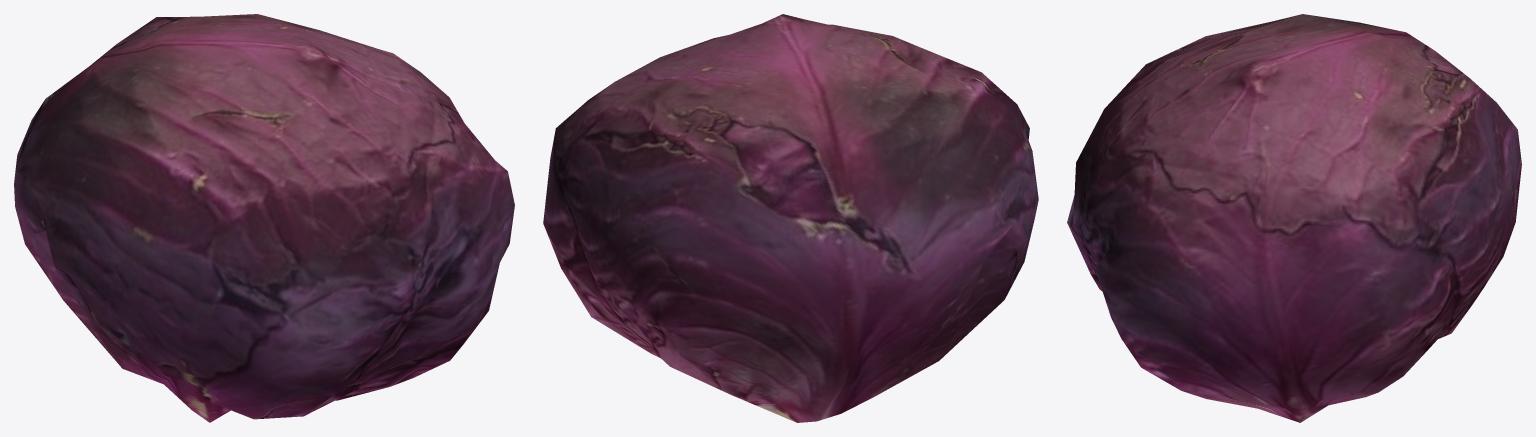
Rendered from A69_Cabbage_low.fbx.
The picture shows the model from 3 angles, left to right: view 1: azimuth 30°, elevation 25°; view 2: azimuth 150°, elevation 25°; view 3: azimuth 270°, elevation 25°; orthographic projection. The views are drawn at different scales.
Parts seen in each view (by area): view 1: A69_Cabbage_low; view 2: A69_Cabbage_low; view 3: A69_Cabbage_low.
Part boxes in pixels (x1,y1,x2,y2): A69_Cabbage_low: [14, 14, 514, 422]; A69_Cabbage_low: [543, 14, 1038, 422]; A69_Cabbage_low: [1067, 14, 1521, 422].
Size of the model in its own units: 15.8 by 15.27 by 12.47.
Materials: 1 (1 with a texture image).
